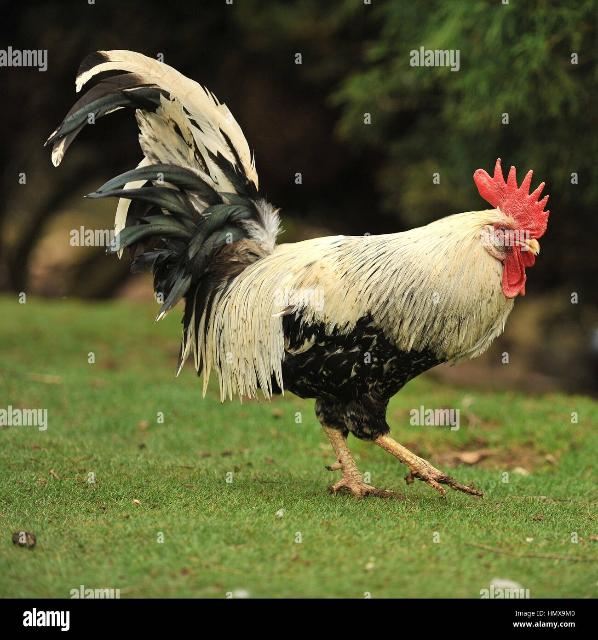Chicken: (48, 54, 548, 499)
